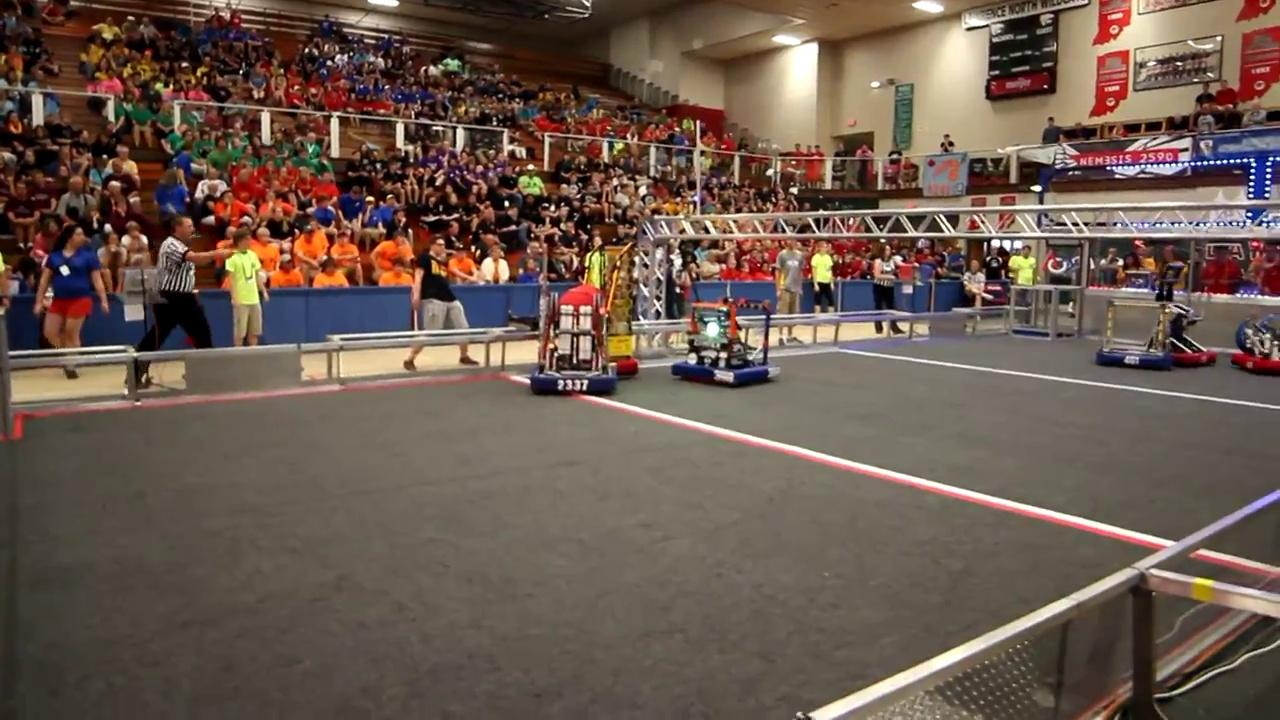robot: (669, 297, 782, 392), (529, 290, 623, 398), (1094, 291, 1170, 376), (1149, 301, 1214, 370), (1230, 308, 1280, 376)
